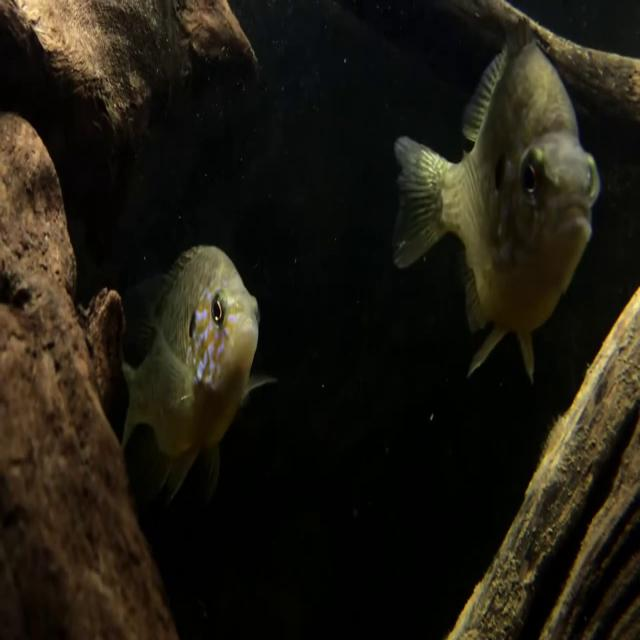Gunes Levregi: (390, 35, 602, 385), (117, 241, 277, 507)
